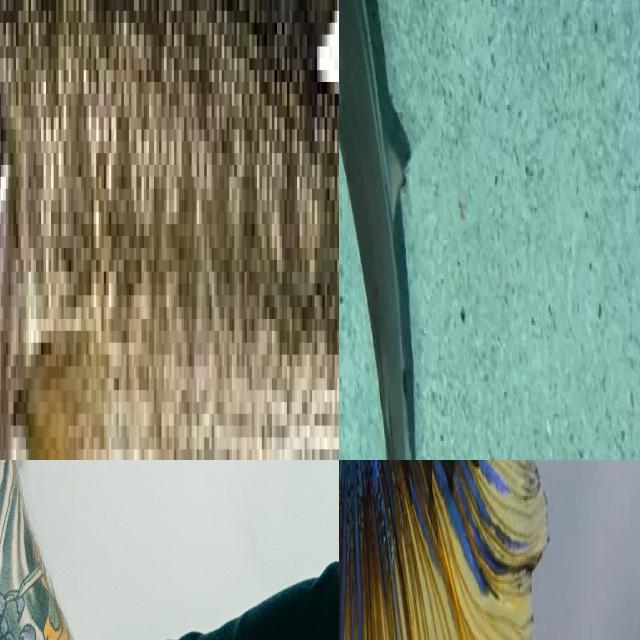fish: (0, 0, 339, 460), (339, 0, 436, 460), (0, 460, 240, 640), (339, 460, 504, 640)
